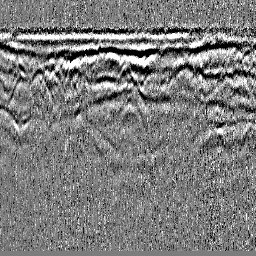cavity: (111, 62, 144, 99)
